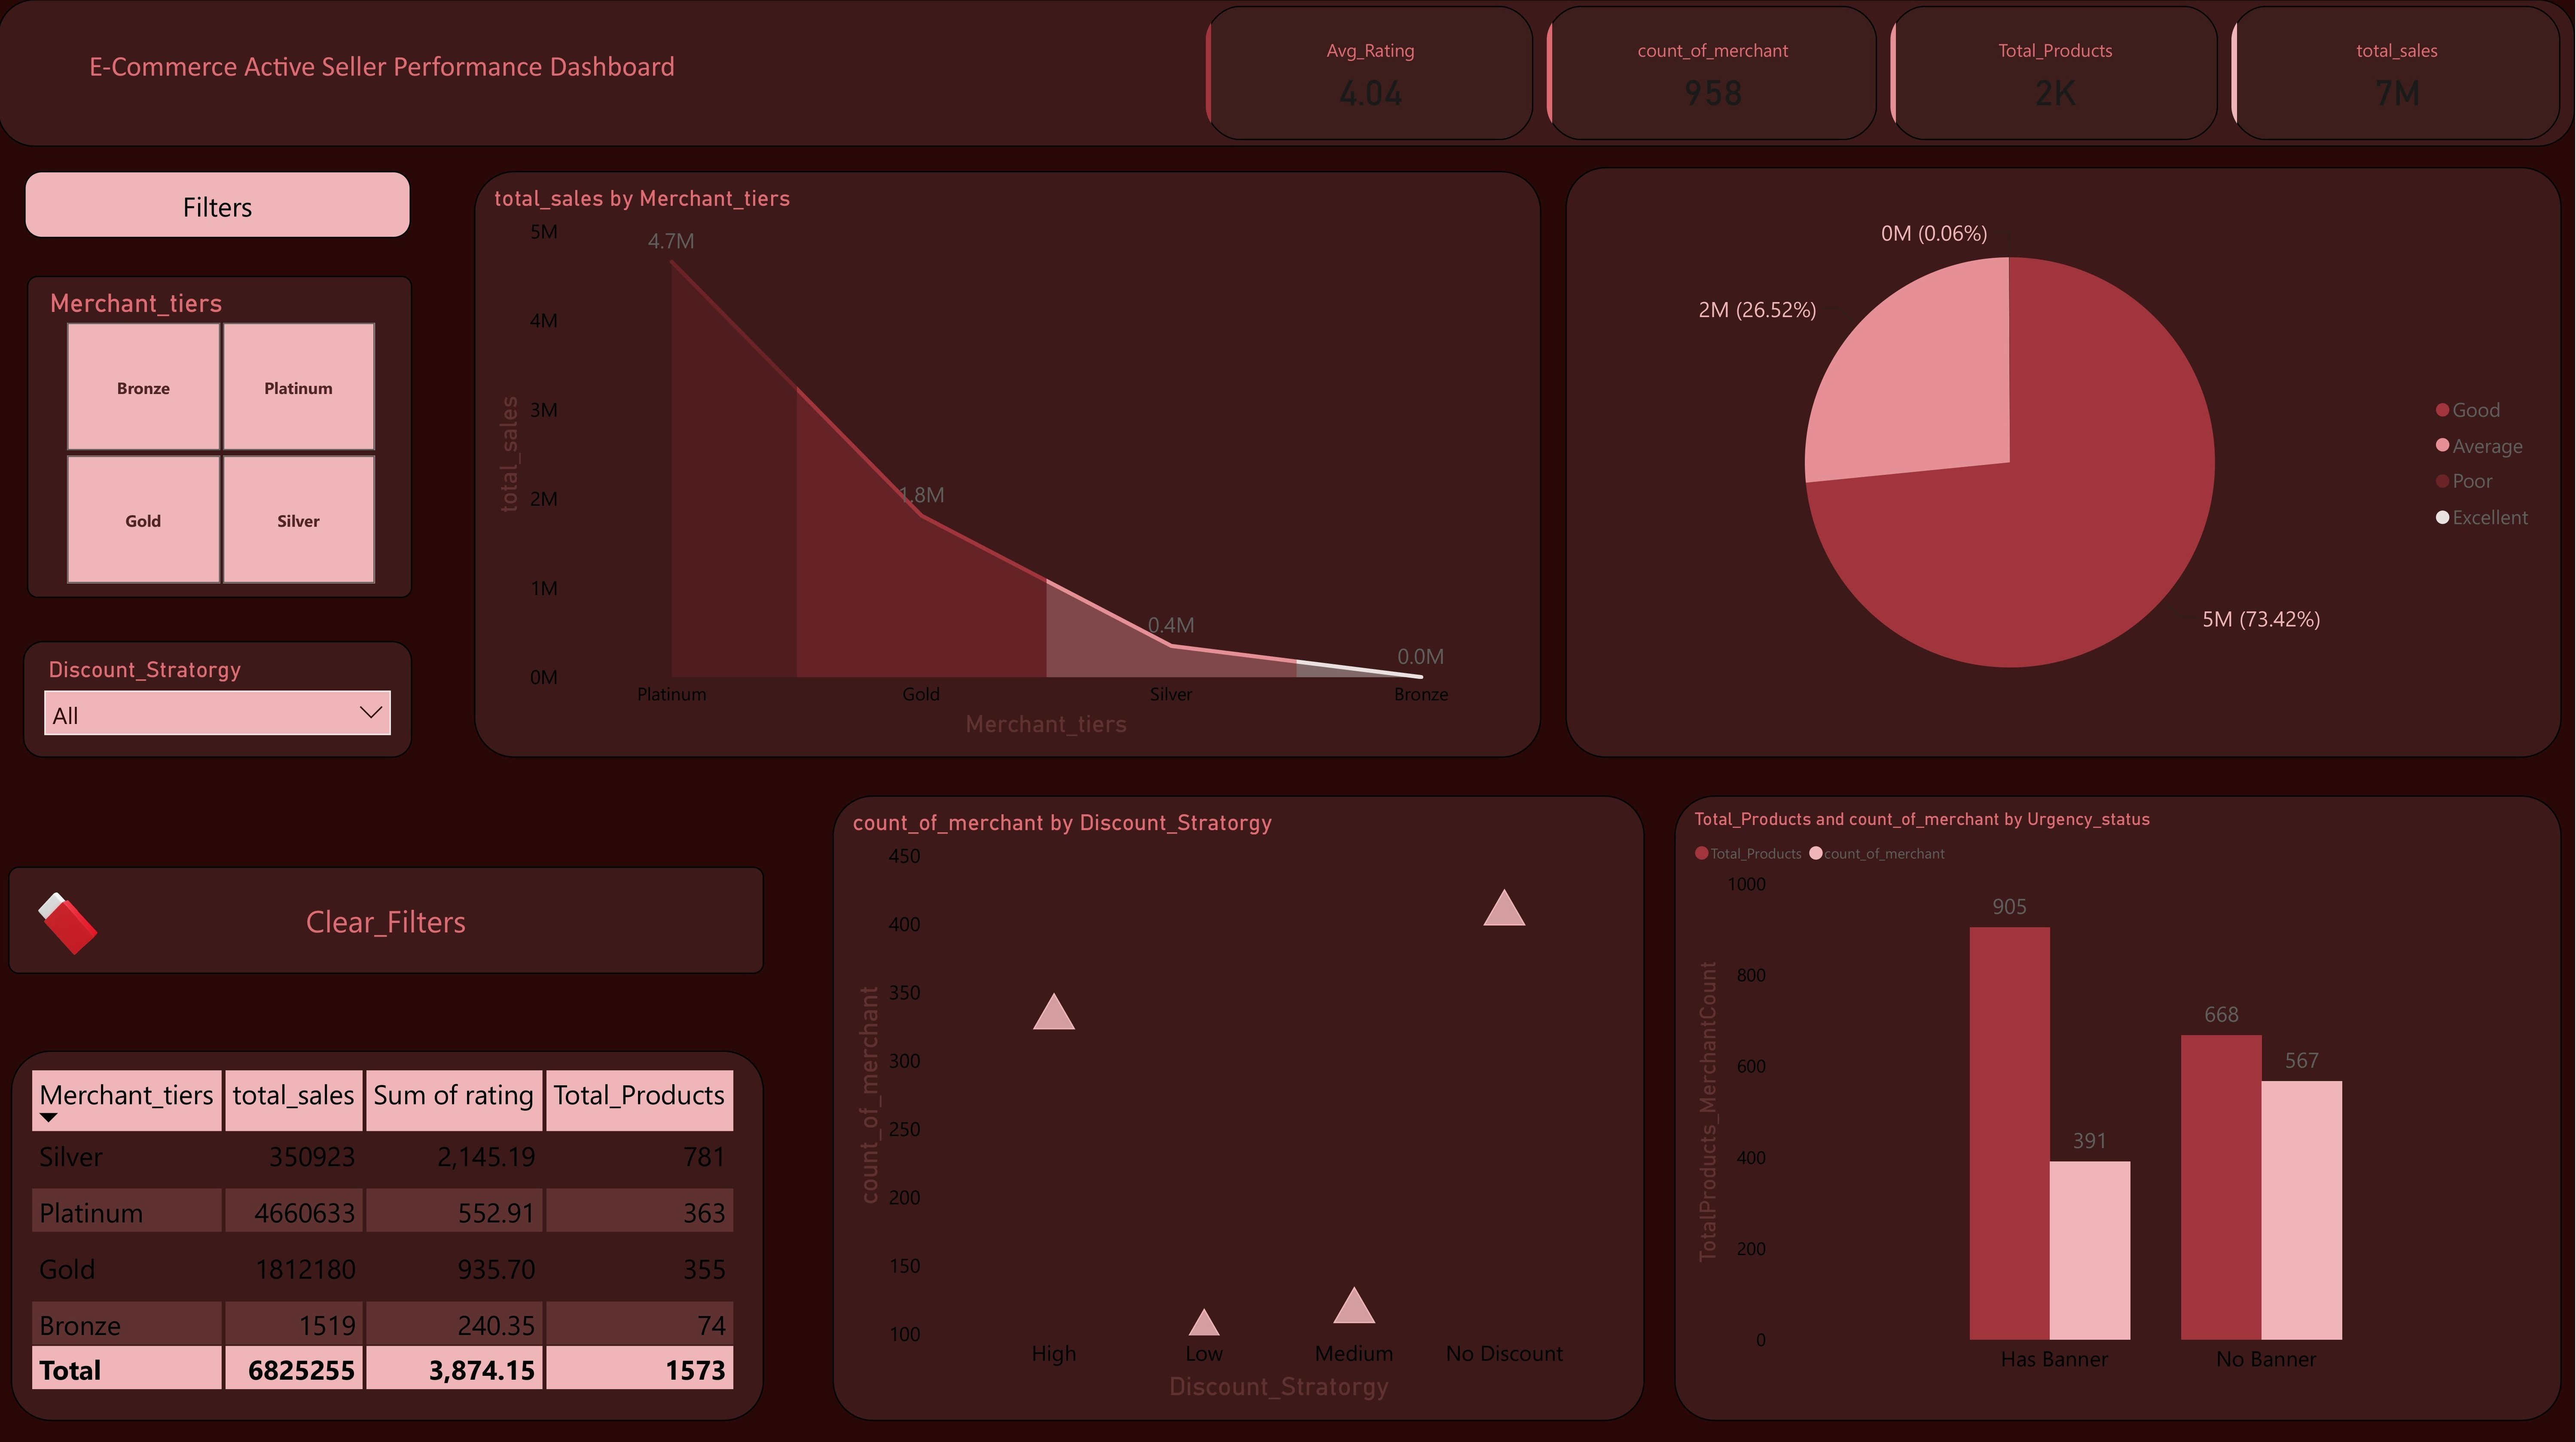

The dashboard page shown, as its layout file describes it:
{"tool":"powerbi","page":{"name":"Dashboard","canvas":[1920,1080],"ordinal":0},"visuals":[{"type":"group","id":"g1","title":"Group 1","box":[0,0,1920,110.2],"z":0,"group":"g2"},{"type":"shape","box":[0,0,1920,110],"z":0,"group":"g1"},{"type":"slicer","fields":{"Values":["Computed_insight___Success_of_active_sellers__2.Merchant_tiers"]},"box":[22,205.1,286.4,240.7],"z":0,"group":"g4"},{"type":"cardVisual","fields":{"Data":["_measures.Avg_Discount_%"]},"box":[485.5,297.1,170,81.9],"z":0},{"type":"actionButton","box":[8.5,645.9,562.7,79.7],"z":0,"group":"g3"},{"type":"textbox","box":[0,28.8,571.2,49.2],"z":1000,"group":"g2"},{"type":"areaChart","fields":{"Category":["Computed_insight___Success_of_active_sellers__2.Merchant_tiers"],"Y":["_measures.total_sales"]},"box":[355,127.5,795,437.5],"z":1000},{"type":"slicer","fields":{"Values":["Computed_insight___Success_of_active_sellers__2.Discount_Stratorgy"]},"box":[18.6,478,289.8,86.4],"z":1000,"group":"g4"},{"type":"image","box":[0,645.8,104.3,84.7],"z":1000,"group":"g3"},{"type":"cardVisual","fields":{"Data":["_measures.Avg_Rating"]},"box":[894.9,0,254.2,110.2],"z":2000,"group":"g1"},{"type":"pieChart","fields":{"Category":["Computed_insight___Success_of_active_sellers__2.Rating_Catagory"],"Y":["_measures.total_sales"]},"box":[1167.5,125,742.5,440],"z":2000},{"type":"actionButton","box":[20,127.5,287.5,50],"z":2000,"group":"g4"},{"type":"cardVisual","fields":{"Data":["_measures.count_of_merchant"]},"box":[1149.2,0,255.9,110.2],"z":3000,"group":"g1"},{"type":"scatterChart","fields":{"X":["Computed_insight___Success_of_active_sellers__2.Discount_Stratorgy"],"Y":["_measures.count_of_merchant"]},"box":[622,593.2,605.1,466.1],"z":3000},{"type":"cardVisual","fields":{"Data":["_measures.Total_Products"]},"box":[1405.1,0,254.2,110.2],"z":4000,"group":"g1"},{"type":"clusteredColumnChart","fields":{"Y":["_measures.Total_Products","_measures.count_of_merchant"],"Category":["Computed_insight___Success_of_active_sellers__2.Urgency_status"]},"box":[1249.2,593.2,661,466.1],"z":4000},{"type":"cardVisual","fields":{"Data":["_measures.total_sales"]},"box":[1659.3,0,254.2,110.2],"z":5000,"group":"g1"},{"type":"tableEx","fields":{"Values":["Computed_insight___Success_of_active_sellers__2.Merchant_tiers","_measures.total_sales","Sum(Computed_insight___Success_of_active_sellers__2.rating)","_measures.Total_Products"]},"box":[10.2,783.1,561,276.3],"z":5000},{"type":"group","id":"g2","title":"Group 2","box":[0,0,1920,110.2],"z":6000},{"type":"group","id":"g3","title":"Group 4","box":[0,645.8,571.2,84.7],"z":8000},{"type":"group","id":"g4","title":"Group 3","box":[18.6,127.5,289.8,436.9],"z":8001}]}

Visuals, with their boxes in screenshot pixels (x1, y1, x2, y2), scaled from the page's 1920x1080 canvas onto the 2576x1442 screenshot:
"Group 1" group: left=0, top=0, right=2576, bottom=147
shape: left=0, top=0, right=2576, bottom=147
slicer - Computed_insight___Success_of_active_sellers__2.Merchant_tiers: left=30, top=274, right=414, bottom=595
cardVisual - _measures.Avg_Discount_%: left=651, top=397, right=879, bottom=506
actionButton: left=12, top=862, right=766, bottom=969
textbox: left=0, top=38, right=766, bottom=104
areaChart - Computed_insight___Success_of_active_sellers__2.Merchant_tiers x _measures.total_sales: left=476, top=170, right=1543, bottom=755
slicer - Computed_insight___Success_of_active_sellers__2.Discount_Stratorgy: left=25, top=638, right=414, bottom=754
image: left=0, top=862, right=140, bottom=975
cardVisual - _measures.Avg_Rating: left=1201, top=0, right=1542, bottom=147
pieChart - Computed_insight___Success_of_active_sellers__2.Rating_Catagory x _measures.total_sales: left=1566, top=167, right=2563, bottom=755
actionButton: left=27, top=170, right=412, bottom=237
cardVisual - _measures.count_of_merchant: left=1542, top=0, right=1885, bottom=147
scatterChart - Computed_insight___Success_of_active_sellers__2.Discount_Stratorgy x _measures.count_of_merchant: left=834, top=792, right=1646, bottom=1415
cardVisual - _measures.Total_Products: left=1885, top=0, right=2226, bottom=147
clusteredColumnChart - _measures.Total_Products x _measures.count_of_merchant: left=1676, top=792, right=2563, bottom=1415
cardVisual - _measures.total_sales: left=2226, top=0, right=2567, bottom=147
tableEx - Computed_insight___Success_of_active_sellers__2.Merchant_tiers x _measures.total_sales: left=14, top=1045, right=766, bottom=1415
"Group 2" group: left=0, top=0, right=2576, bottom=147
"Group 4" group: left=0, top=862, right=766, bottom=975
"Group 3" group: left=25, top=170, right=414, bottom=754
